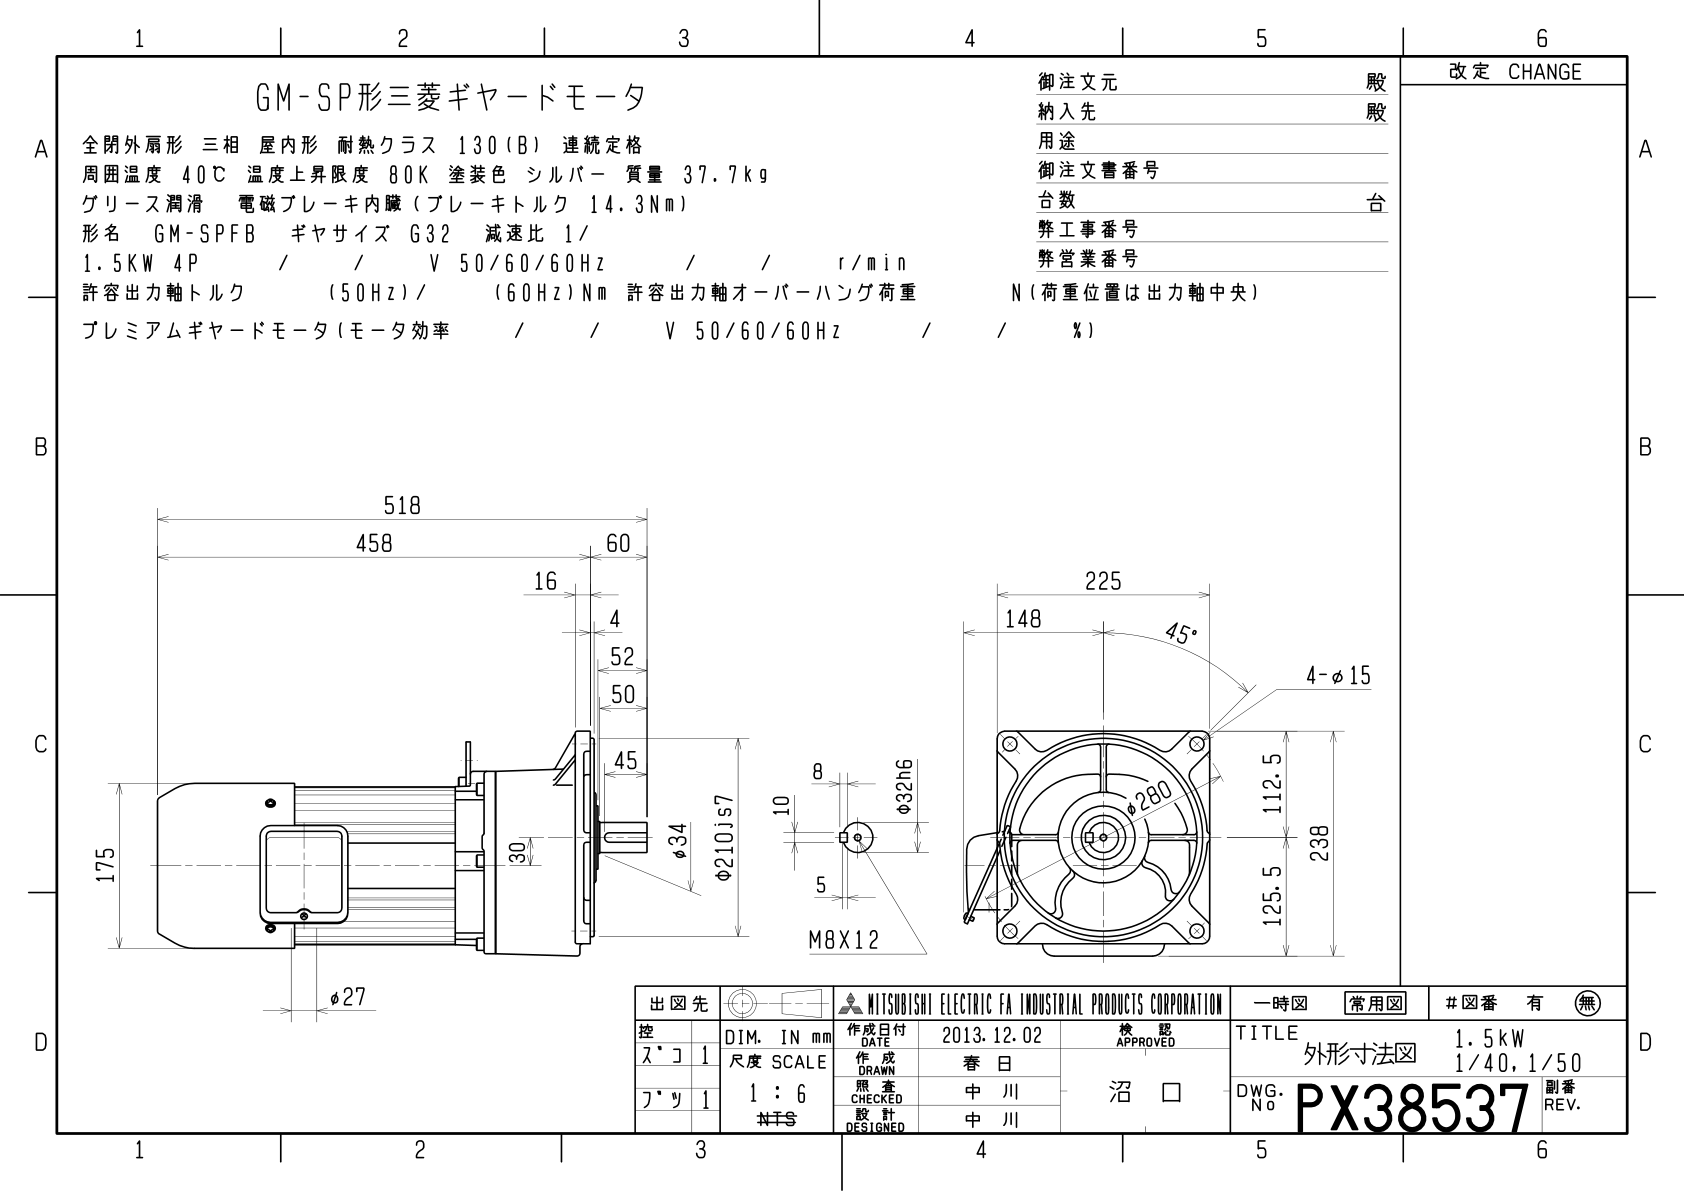GM_SP_屋内_三相_フランジ: (85, 455, 1385, 969)
